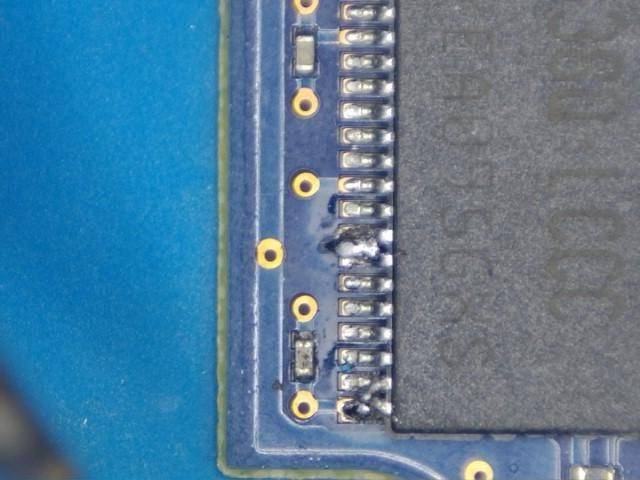pcb_defect: (341, 372, 392, 420), (337, 226, 393, 269)
